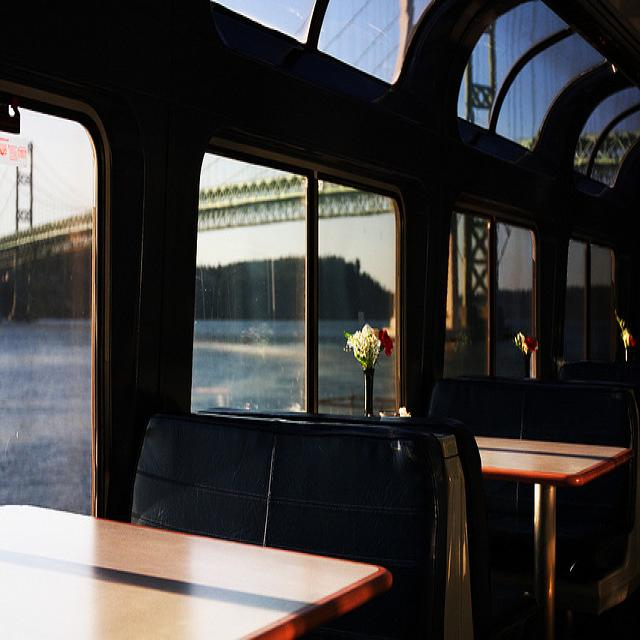chair: (427, 377, 526, 437)
dining table: (0, 500, 392, 630), (476, 437, 629, 616)
